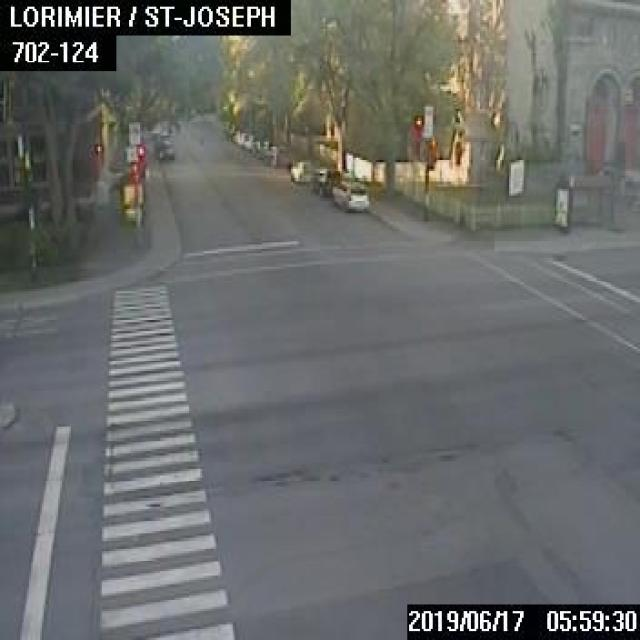vehicle: (330, 180, 367, 210), (308, 166, 339, 195), (288, 159, 312, 183), (266, 143, 290, 166), (157, 137, 173, 159), (237, 131, 249, 147), (244, 134, 254, 152), (230, 128, 238, 142)
